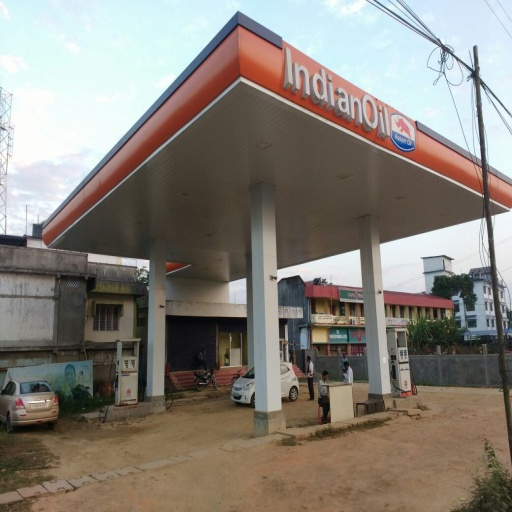roof: (40, 13, 511, 290)
